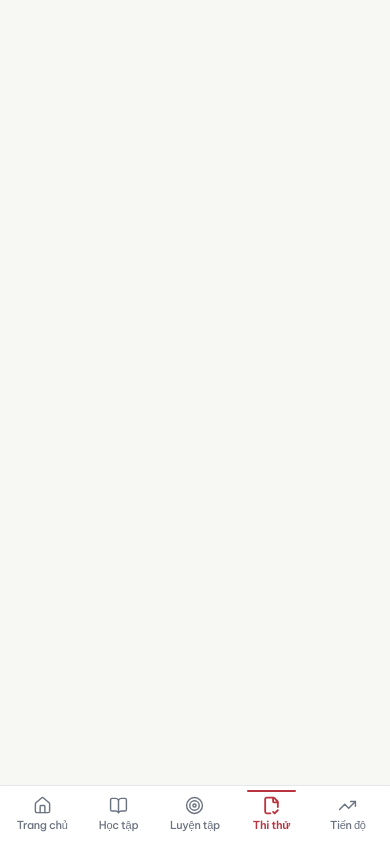
Test: Redesigned Header, BottomNav & LearningToolbar (TDD RED -> GREEN) › renders BottomNav with 5 primary items and opens secondary bottom sheet on tap
The image size is (390, 844).
expect the navigation bar named "Điều hướng di động" is shown: met, box x1=0 y1=785 x2=389 y2=843
Click the button "Luyện tập" at (195, 814), box x1=159 y1=790 x2=231 y2=838
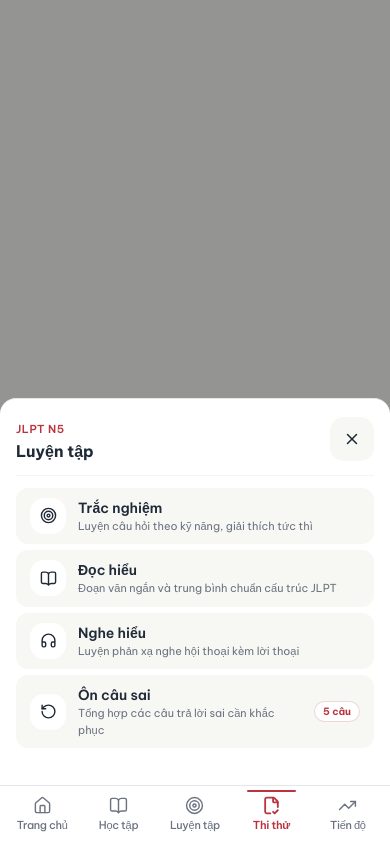
expect the dialog named "Menu Luyện tập" is shown: met, box x1=0 y1=398 x2=389 y2=843
expect the text "Trắc nghiệm" is shown: met, box x1=78 y1=498 x2=162 y2=516
expect the text "Đọc hiểu" is shown: met, box x1=78 y1=561 x2=137 y2=579
